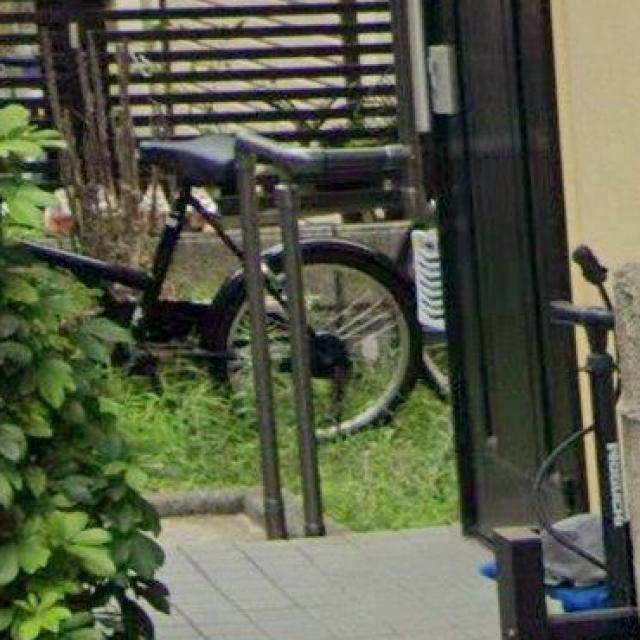bicycle: (24, 136, 254, 391), (303, 242, 425, 443), (307, 237, 417, 444), (248, 138, 404, 190), (262, 250, 295, 384)
